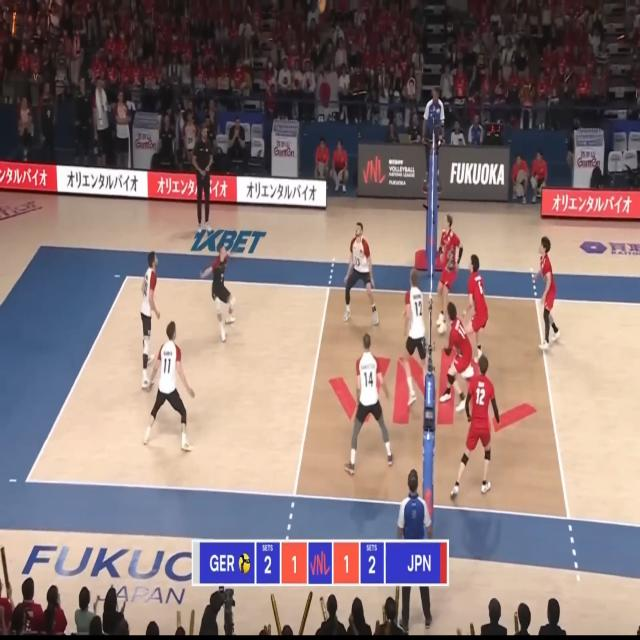ball: (318, 1, 326, 10)
